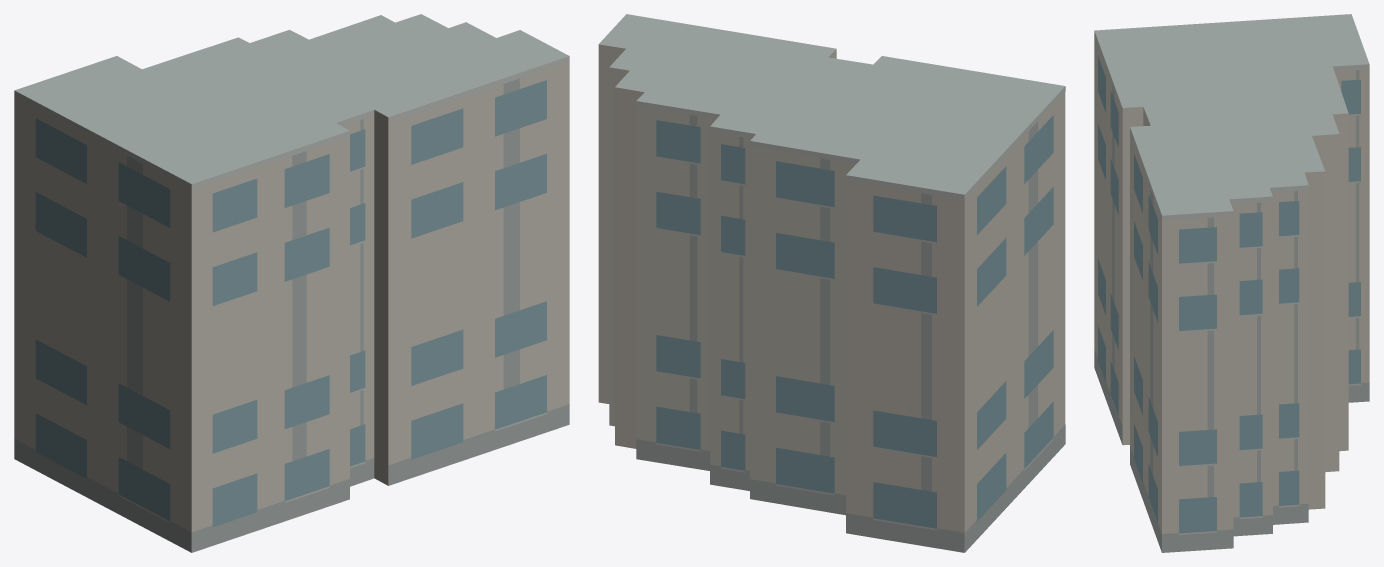
File: survey-upis-33032320.glb
3 views of the same model, side by side, from view 1: azimuth 30°, elevation 25°; view 2: azimuth 150°, elevation 25°; view 3: azimuth 270°, elevation 25° (orthographic). The views are drawn at different scales.
Parts seen in each view (by area): view 1: survey-upis-33032320.tmp; view 2: survey-upis-33032320.tmp; view 3: survey-upis-33032320.tmp.
Part boxes in pixels (x1,y1,x2,y2): survey-upis-33032320.tmp: (14,14,569,552); survey-upis-33032320.tmp: (598,14,1065,552); survey-upis-33032320.tmp: (1094,14,1369,552).
Bounding box in the file's own units: 20.53 × 16 × 11.84.
